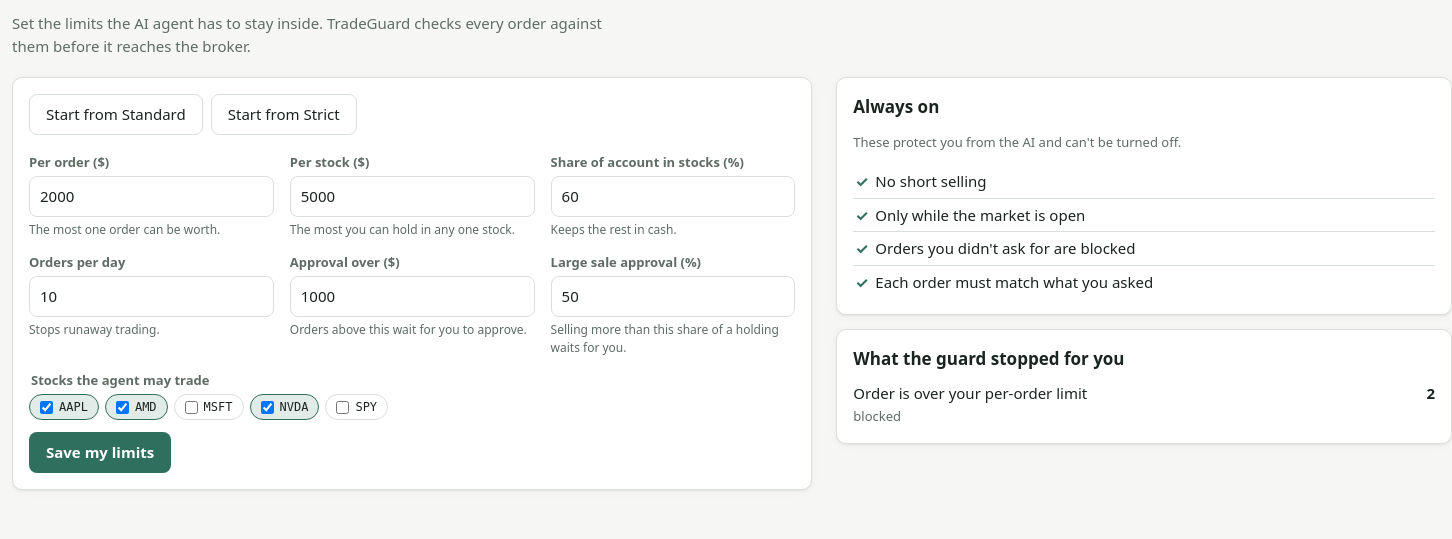
Test: LimitsPage › checks values before saving
The image size is (1452, 539).
Replace the text in the number field labelled "Approval over ($)" with "3000" at (412, 296), box [290,276,535,316]
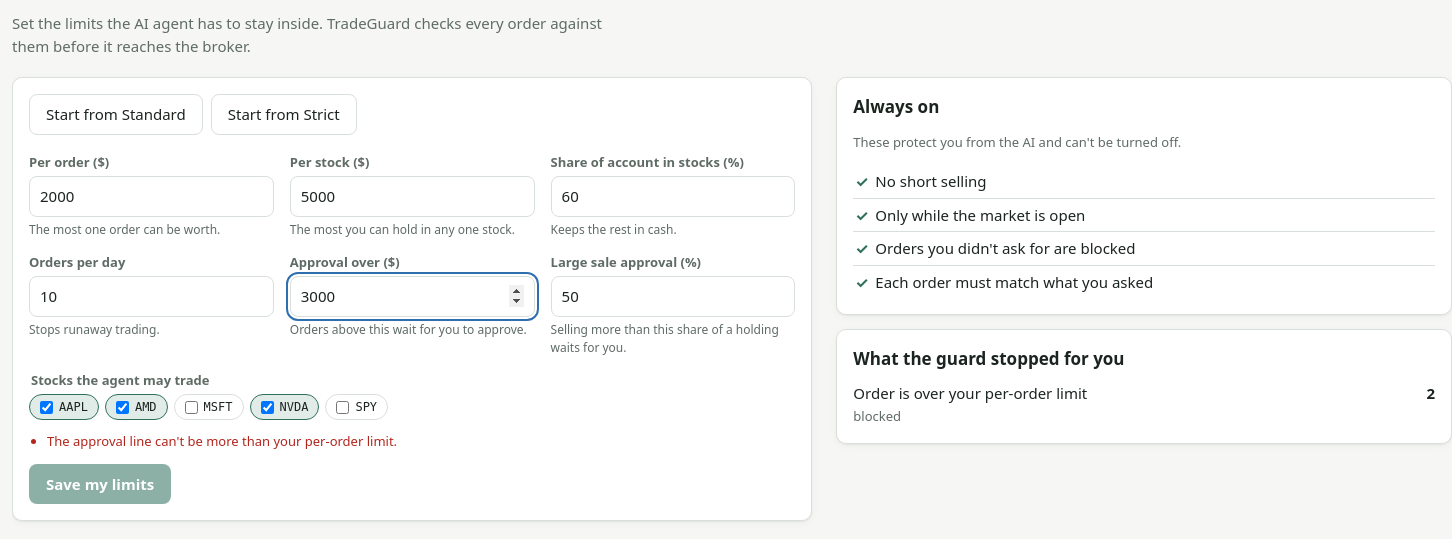
Expected: the button "Save my limits" is disabled, [29,464,171,504]
Expected: the list item "The approval line can't be more than your per-order limit." is shown, [47,432,397,450]
